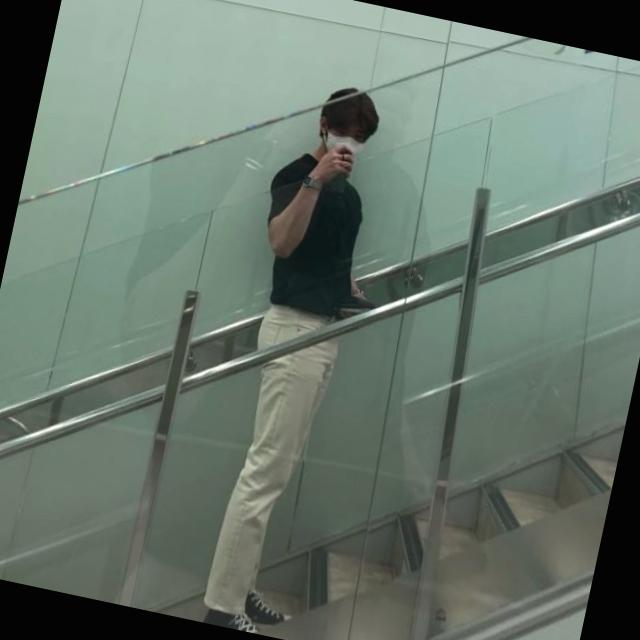cottonpants: (199, 300, 346, 628)
shortsleeve: (249, 146, 378, 324)
